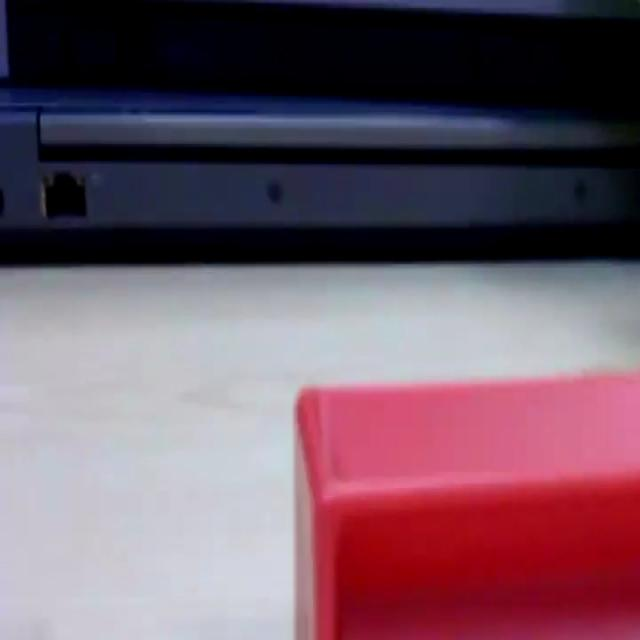red_block: (292, 370, 638, 638)
